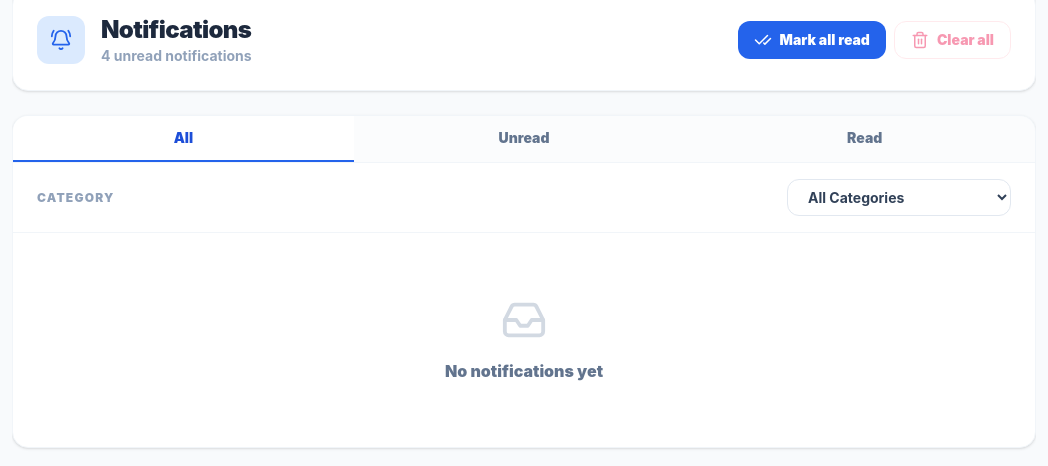
Test case: NotificationPage filters › shows friendly category labels and filtered empty-state text
Select "Self-Assessment" in the dropdown named "Notification category": (899, 198) [787,179,1011,216]
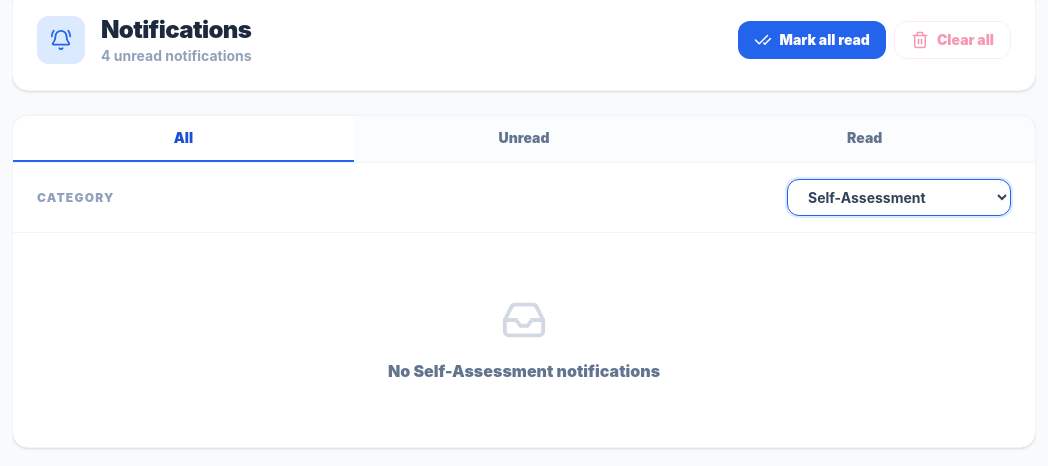
Now the text "No Self-Assessment notifications" is shown, box [388,361,660,381]
